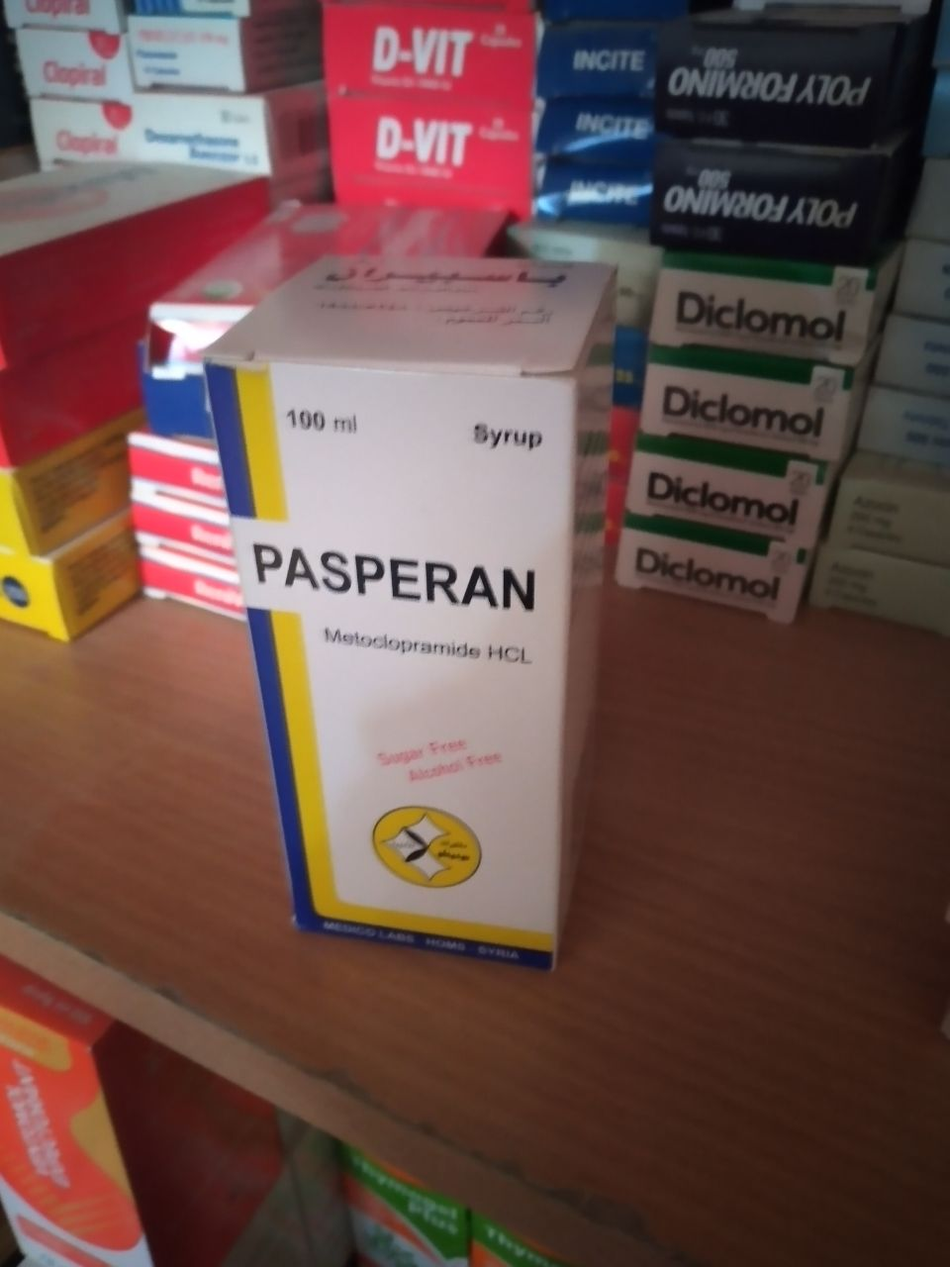Medicine: (195, 241, 617, 980), (313, 69, 541, 191), (630, 158, 927, 251), (643, 36, 914, 135), (650, 254, 891, 363), (614, 525, 821, 630), (623, 449, 838, 544), (647, 363, 844, 452), (323, 10, 521, 96), (152, 211, 251, 373)
